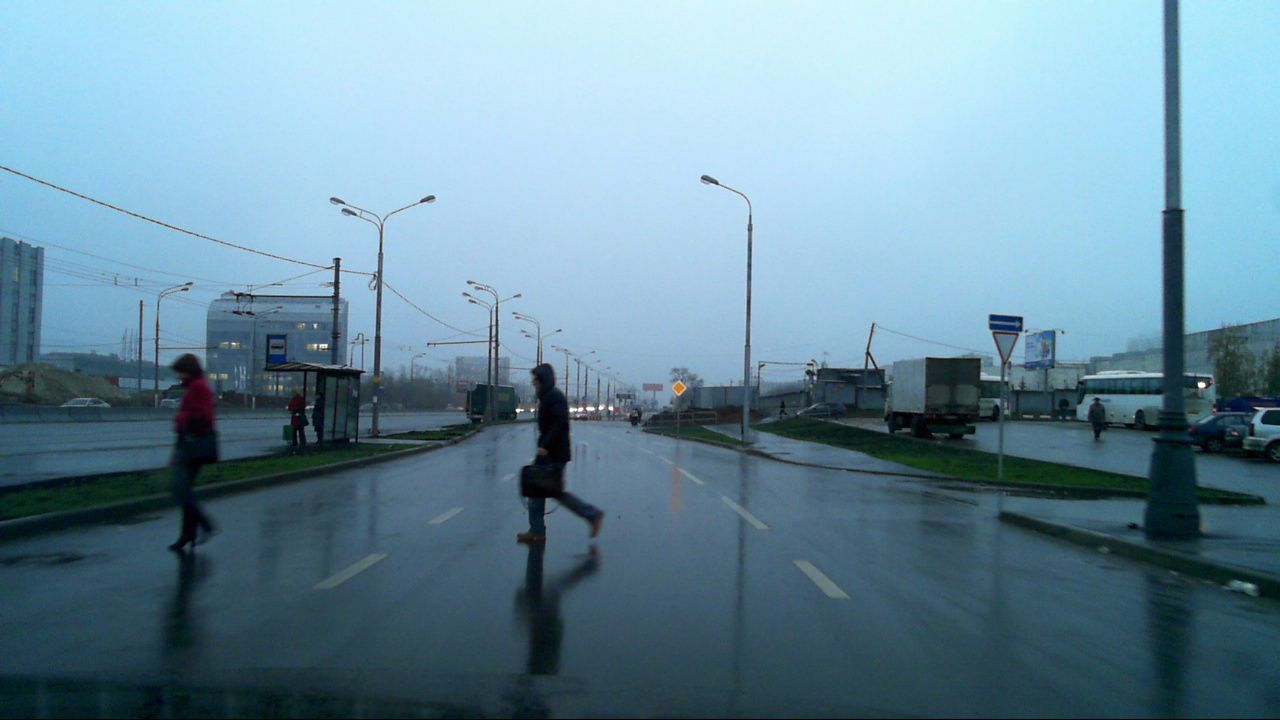One-Way Traffic: (990, 315, 1023, 331)
